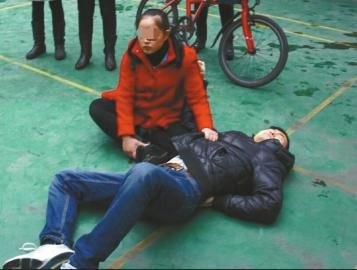falling: (13, 116, 302, 266)
